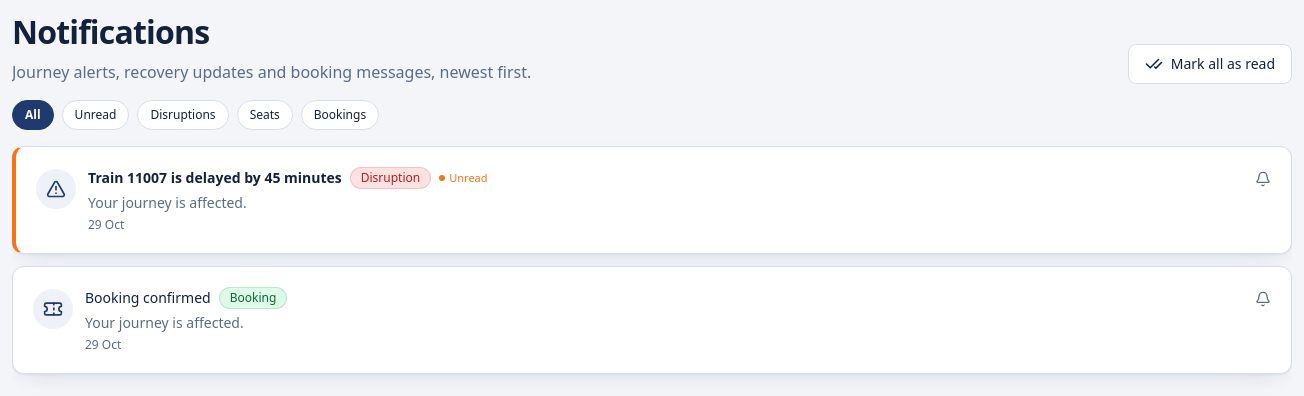
Test: NotificationsPage › marks a single notification as read and follows its link
Expected: the text "Train 11007 is delayed by 45 minutes" is shown, [88,168,342,188]
Click the button that starts with "Train 11007 is delayed by 45 minutes".
click(56, 189)  # box [16,147,1291,253]
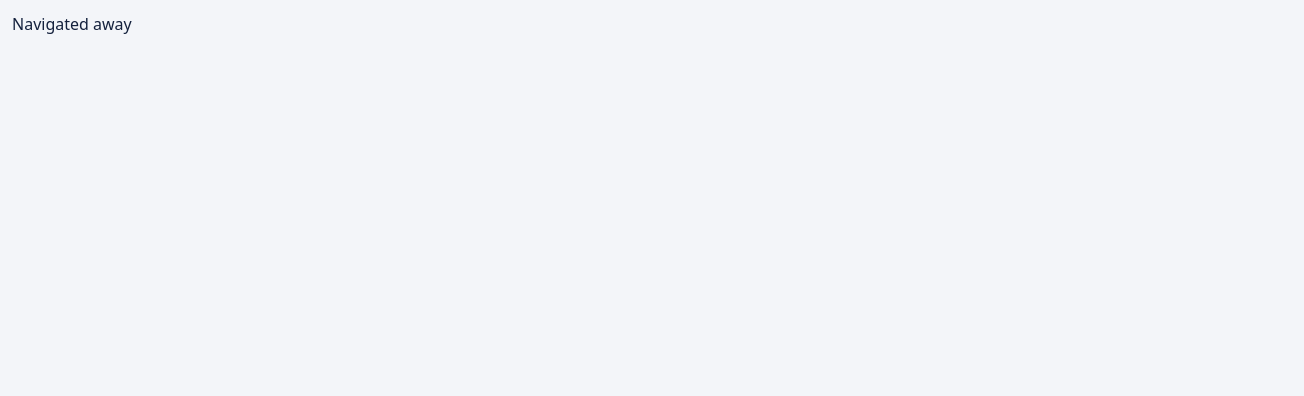
Expected: the text "Navigated away" is shown, [12,13,132,35]
